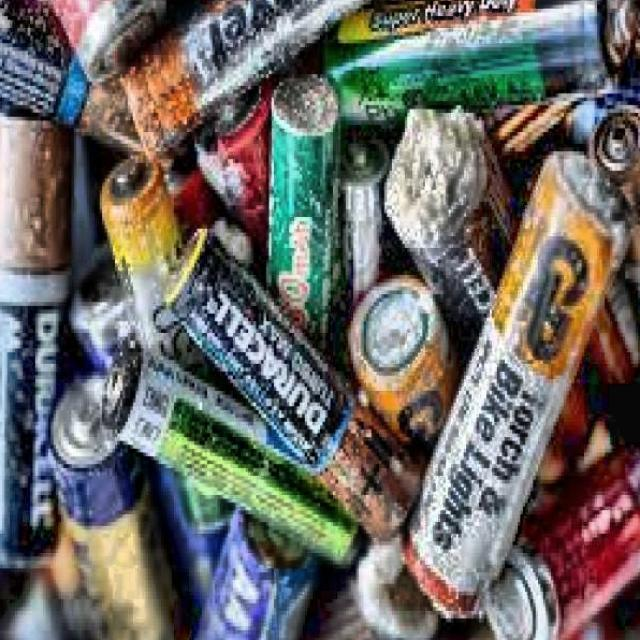battery: (402, 149, 628, 620), (171, 240, 426, 543), (103, 336, 364, 571)
